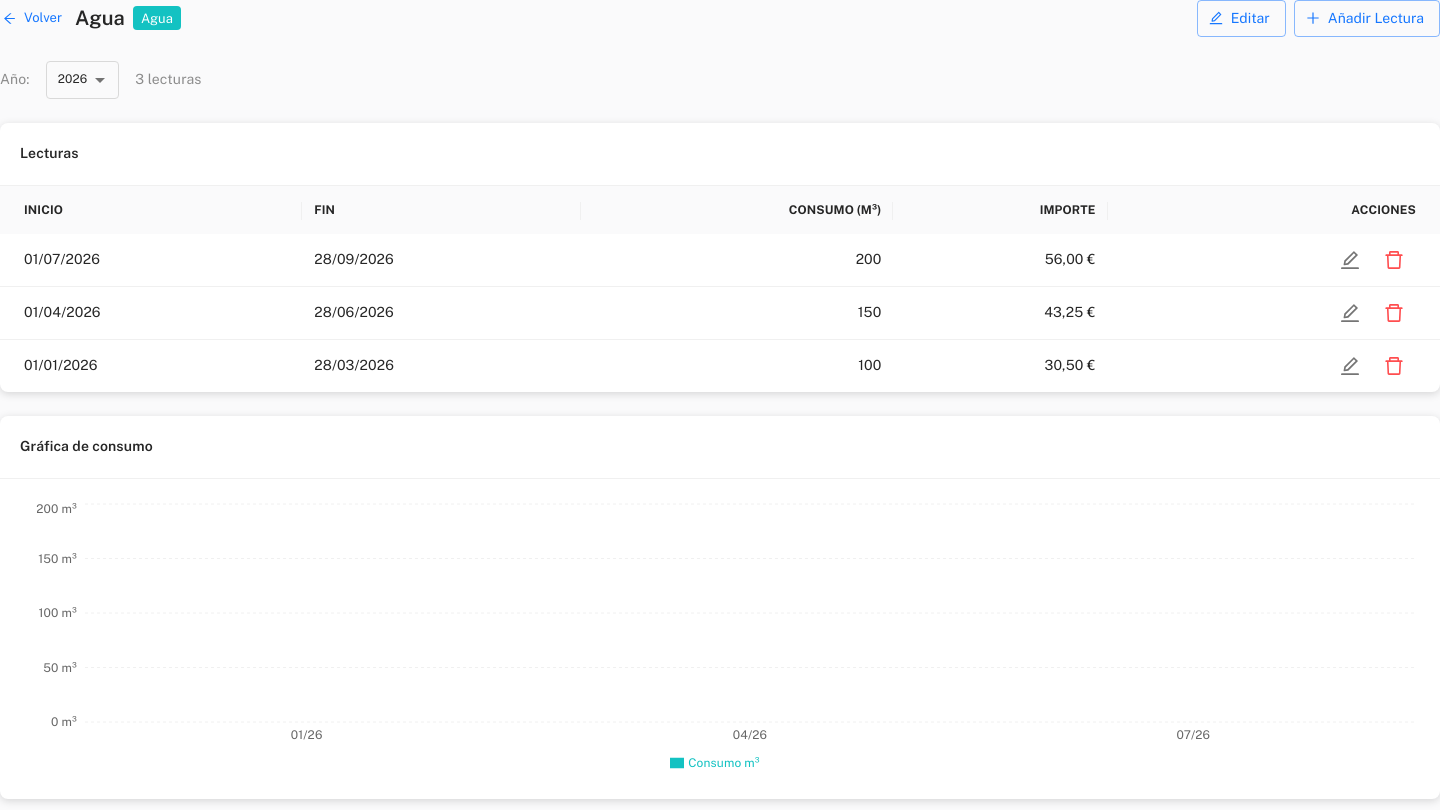
Test case: Flow: reading CRUD in SupplyDetail › click edit reading button opens form in edit mode with pre-filled values
The width and height of the screenshot is (1440, 810).
What coordinates should you click on to do the following:
click the button named "editar lectura" in the row of "56,00 €"
I would click on:
 (1350, 260)
Its box is [1328,238,1372,282].
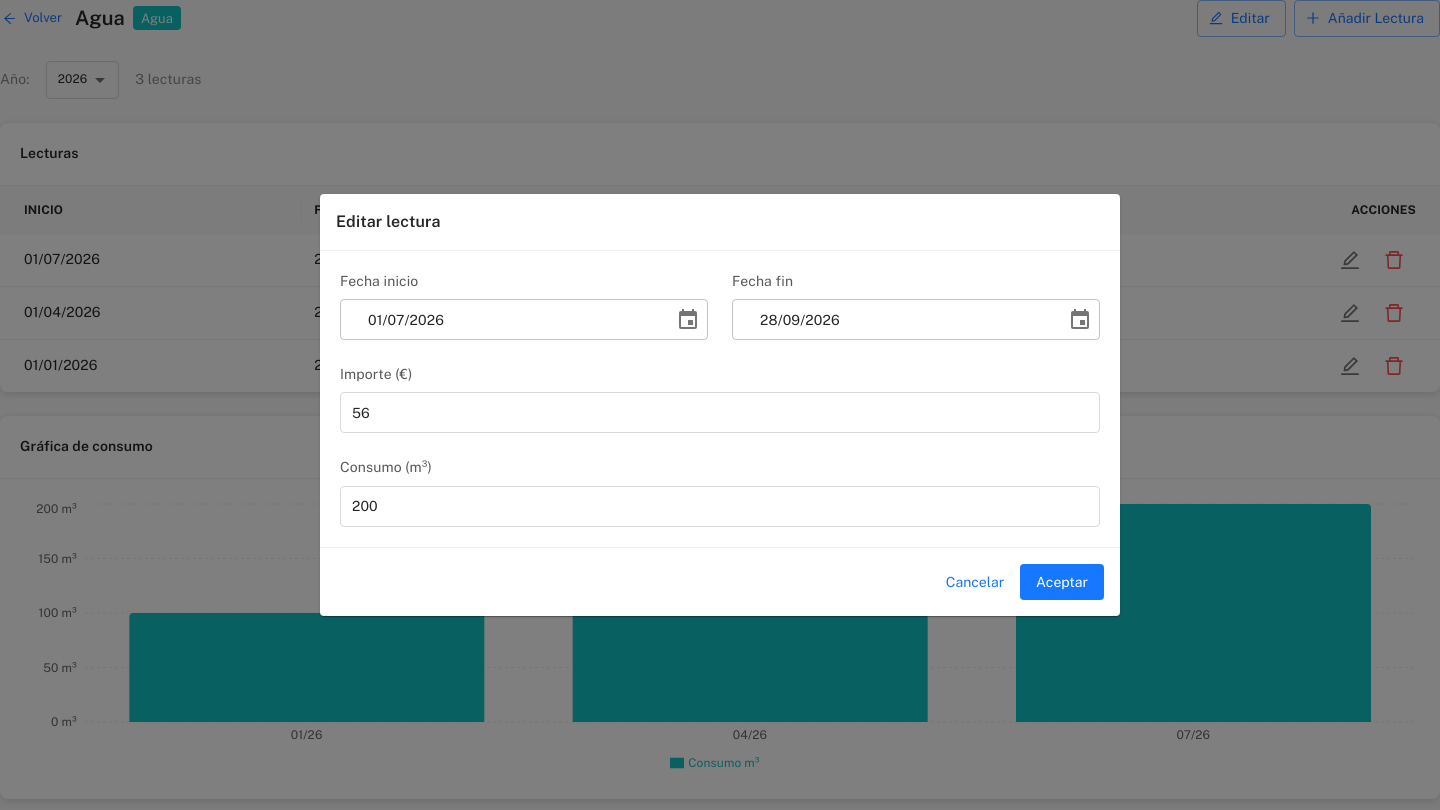
Expected: the text "200" is shown, [581,234,894,287]
Now the text "Editar lectura" is shown, box [336,212,440,231]
